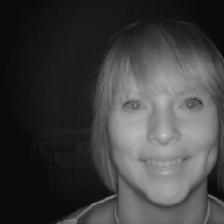happy: (75, 16, 224, 209)
